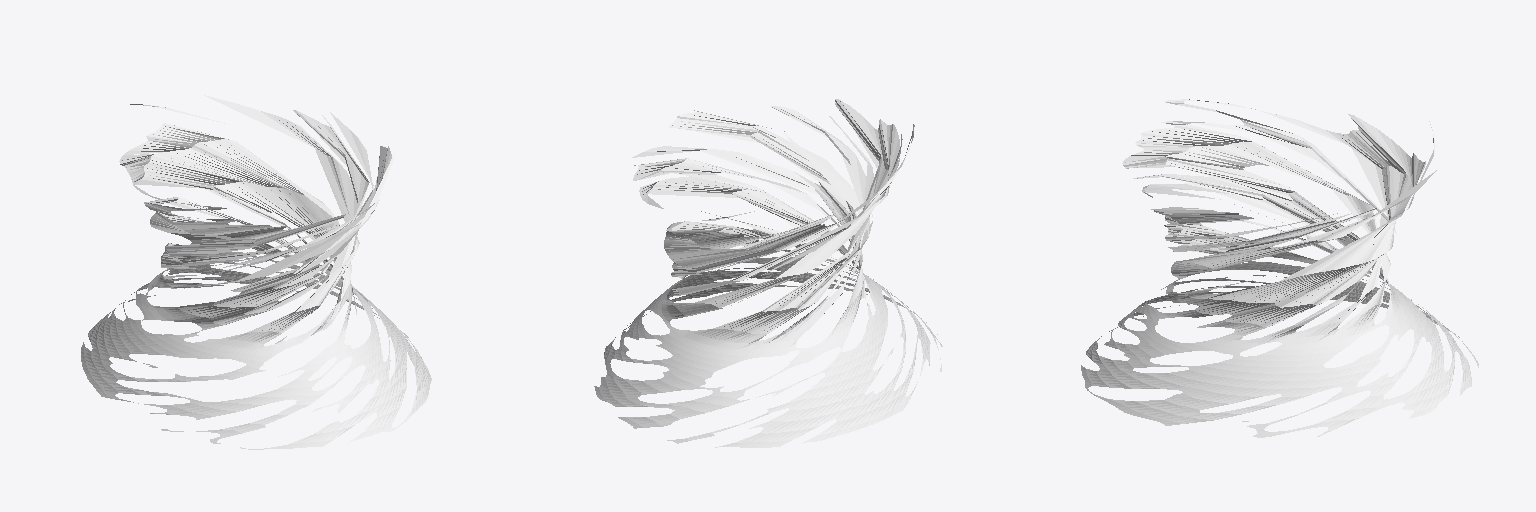
Rendered from Spiral1.obj.
The picture shows the model from 3 angles: view 1: azimuth 30°, elevation 25°; view 2: azimuth 150°, elevation 25°; view 3: azimuth 270°, elevation 25°; orthographic projection.
Parts seen in each view (by area): view 1: Spiral1; view 2: Spiral1; view 3: Spiral1.
Boxes of the visible parts, x1=… form: Spiral1: x1=81, y1=95, x2=431, y2=449; Spiral1: x1=594, y1=99, x2=942, y2=447; Spiral1: x1=1081, y1=99, x2=1478, y2=437.
Size of the model in its own units: 11.76 by 8.83 by 14.03.